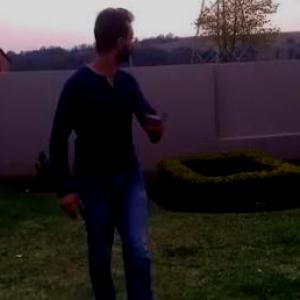takeoff-hand: (137, 97, 172, 143)
